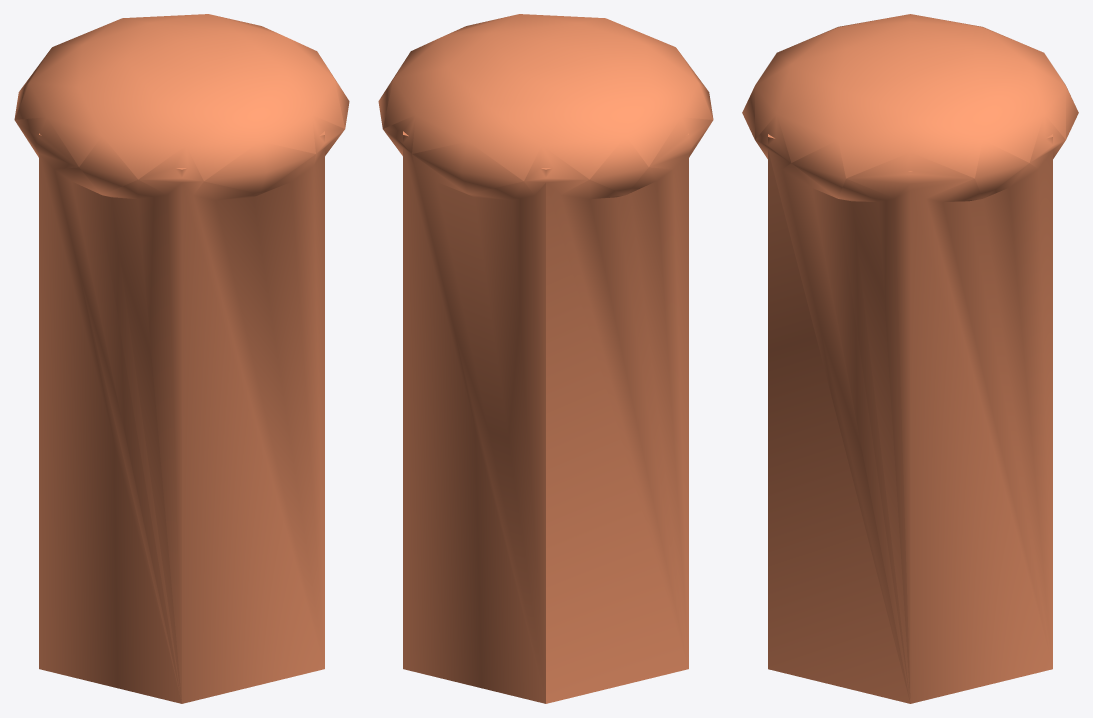
The picture shows the model from 3 angles, left to right: view 1: azimuth 30°, elevation 25°; view 2: azimuth 150°, elevation 25°; view 3: azimuth 270°, elevation 25°; orthographic projection.
Size of the model in its own units: 0.86 by 1.66 by 0.86.
